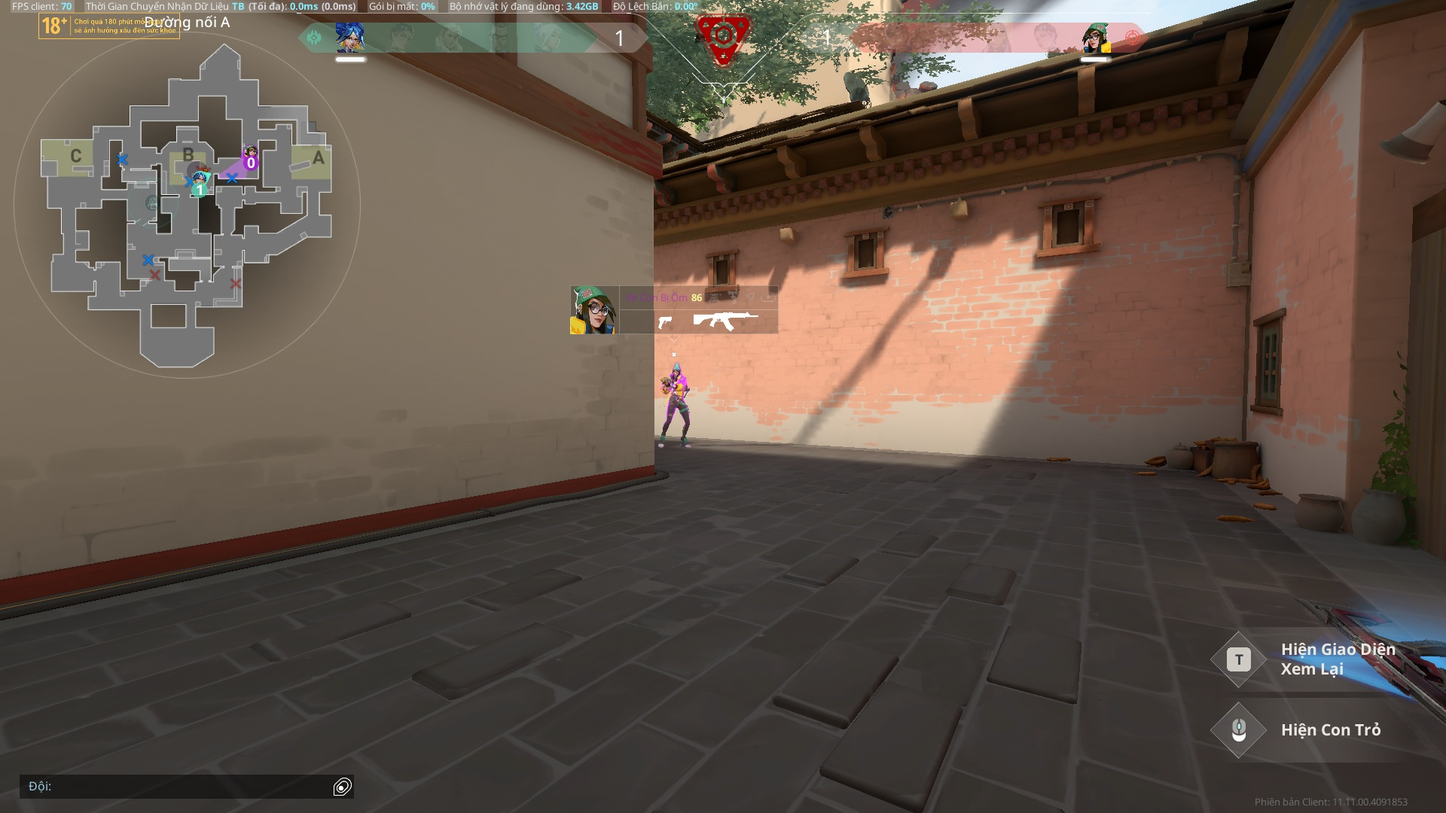body: (668, 375, 688, 394)
head: (671, 368, 682, 377)
